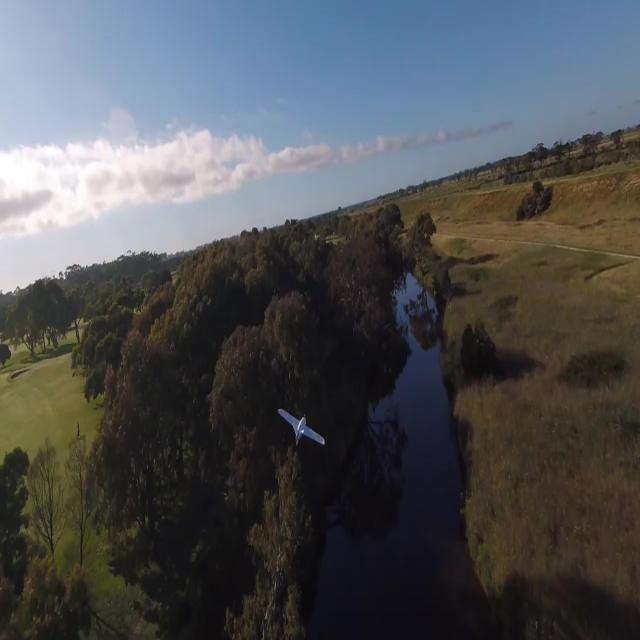iha: (277, 407, 325, 446)
